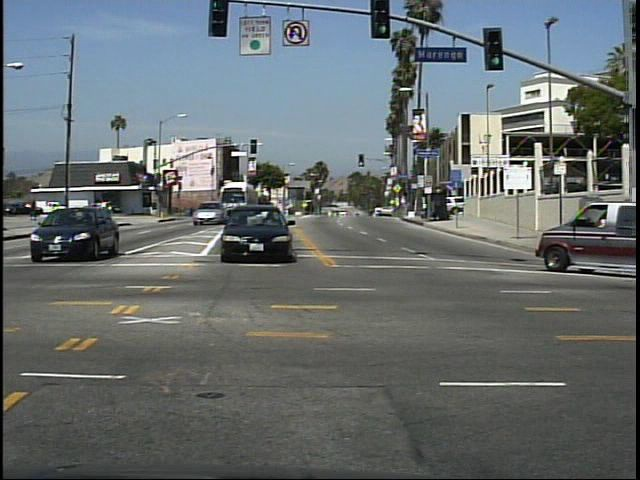person: (26, 194, 42, 222)
